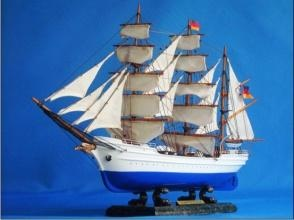fanchuan: (31, 4, 254, 216)
